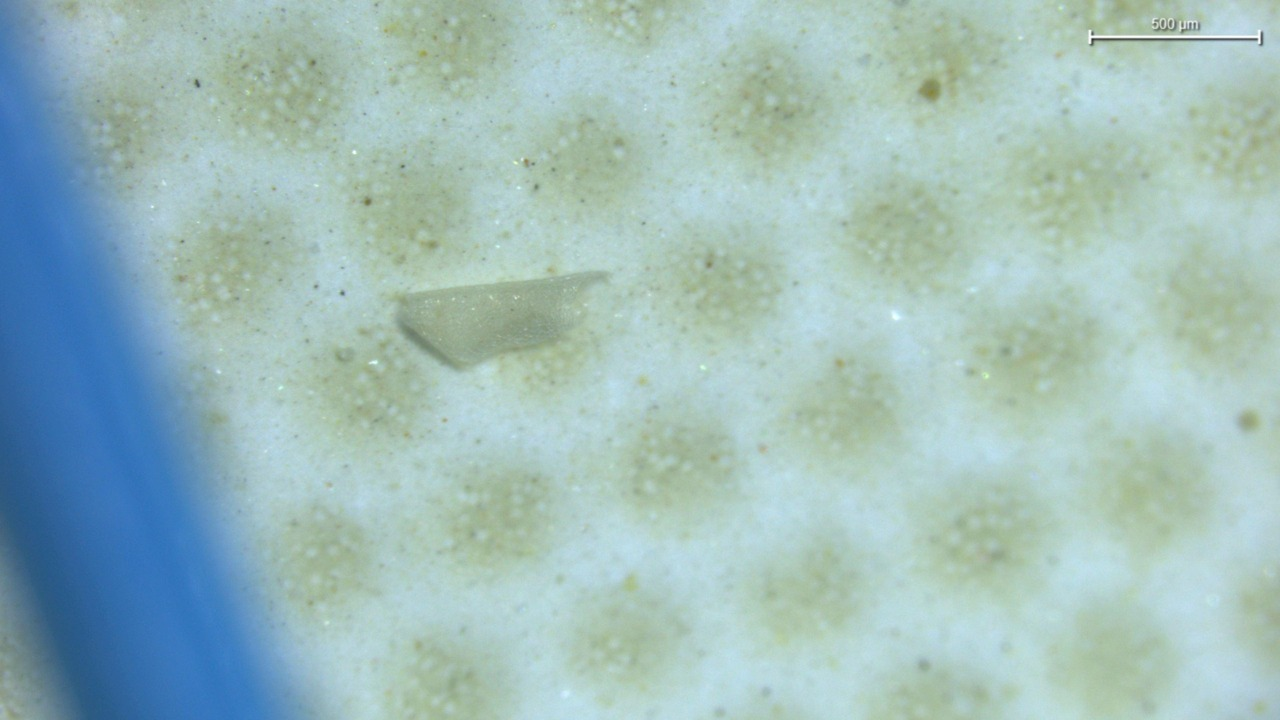microplastic_fragment: (398, 271, 609, 369)
